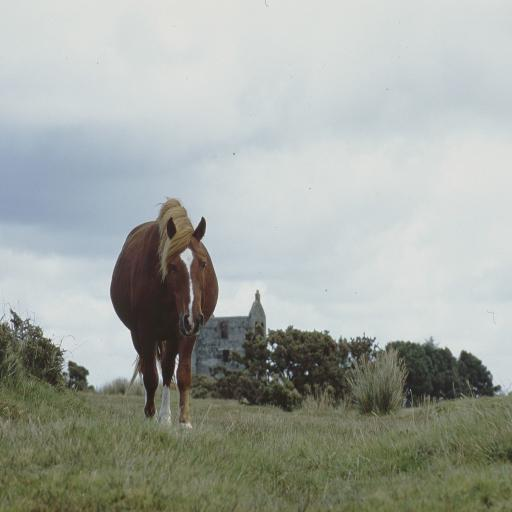horse: (109, 194, 221, 430)
